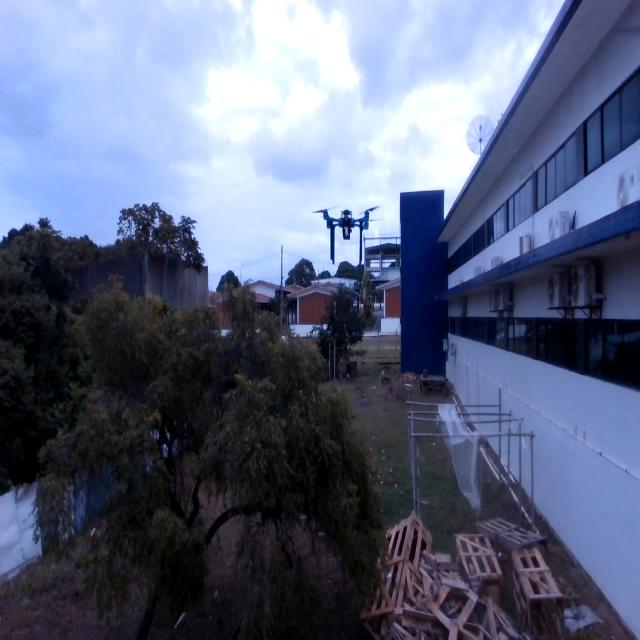-uav-: (307, 197, 391, 270)
